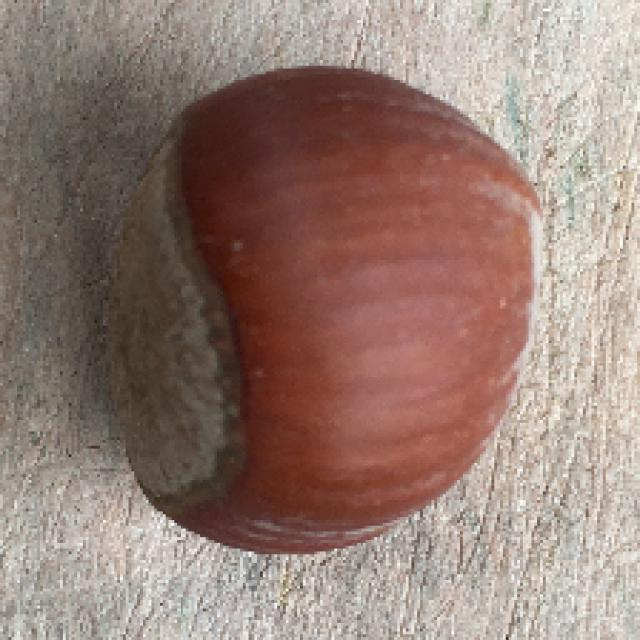qualityHazelnut: (77, 53, 567, 571)
